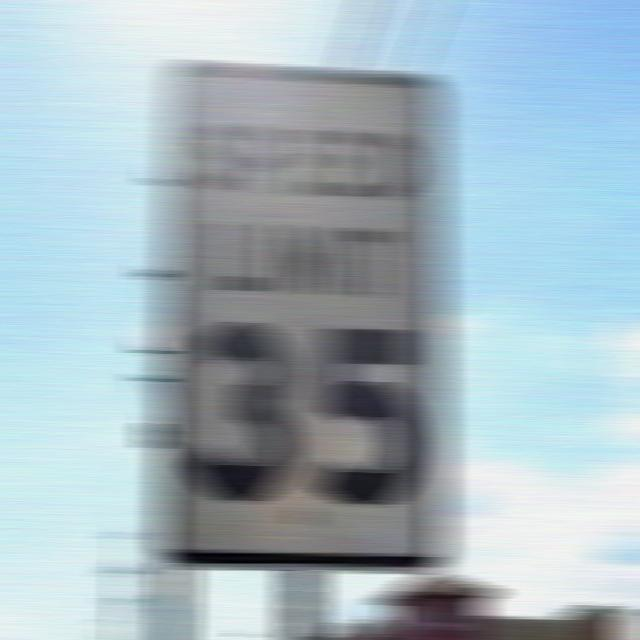speedLimit35: (160, 47, 447, 572)
